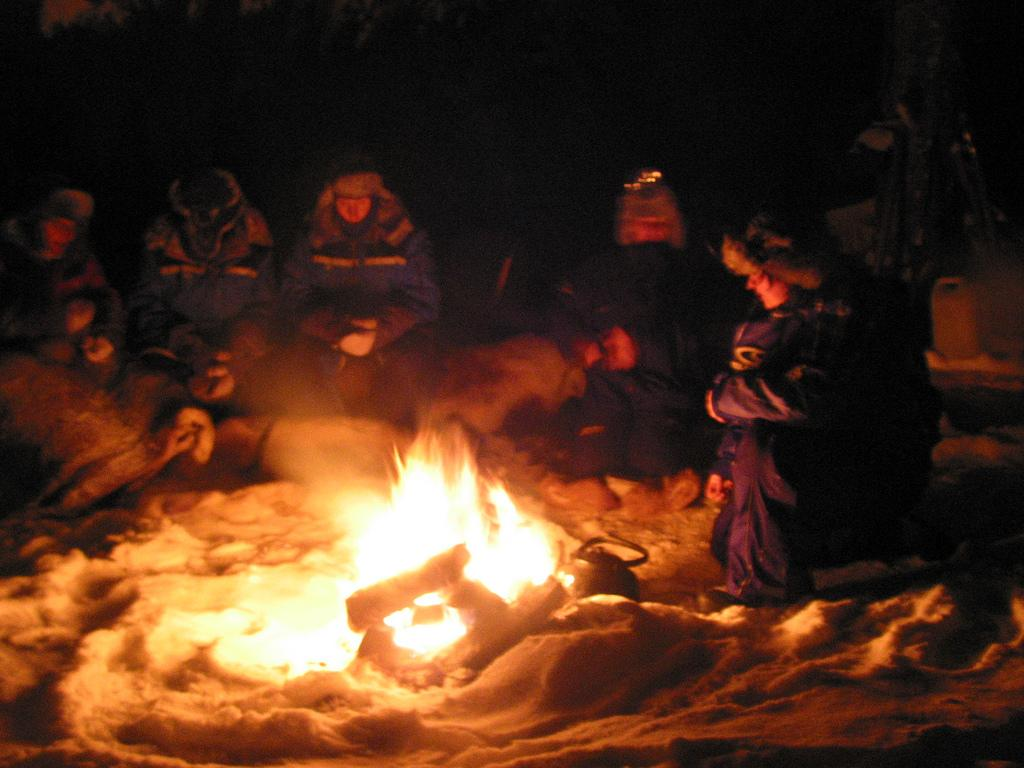fire: (340, 474, 468, 558), (246, 592, 344, 658), (494, 518, 548, 604)
